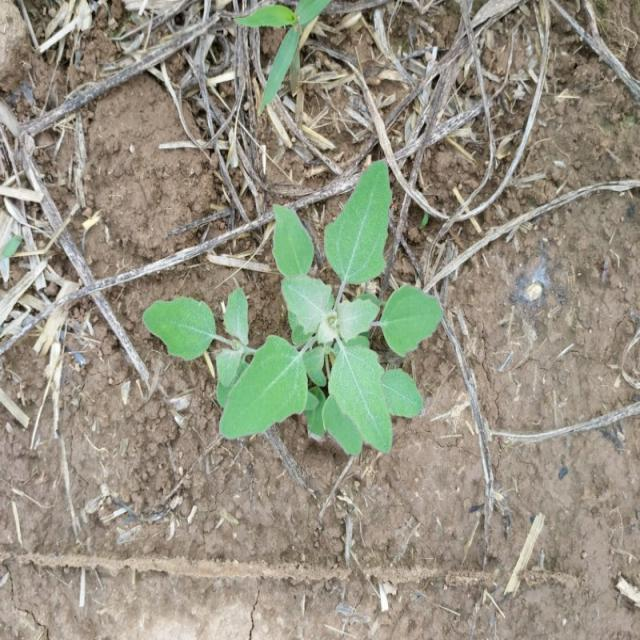goosefoots: (146, 151, 430, 450)
